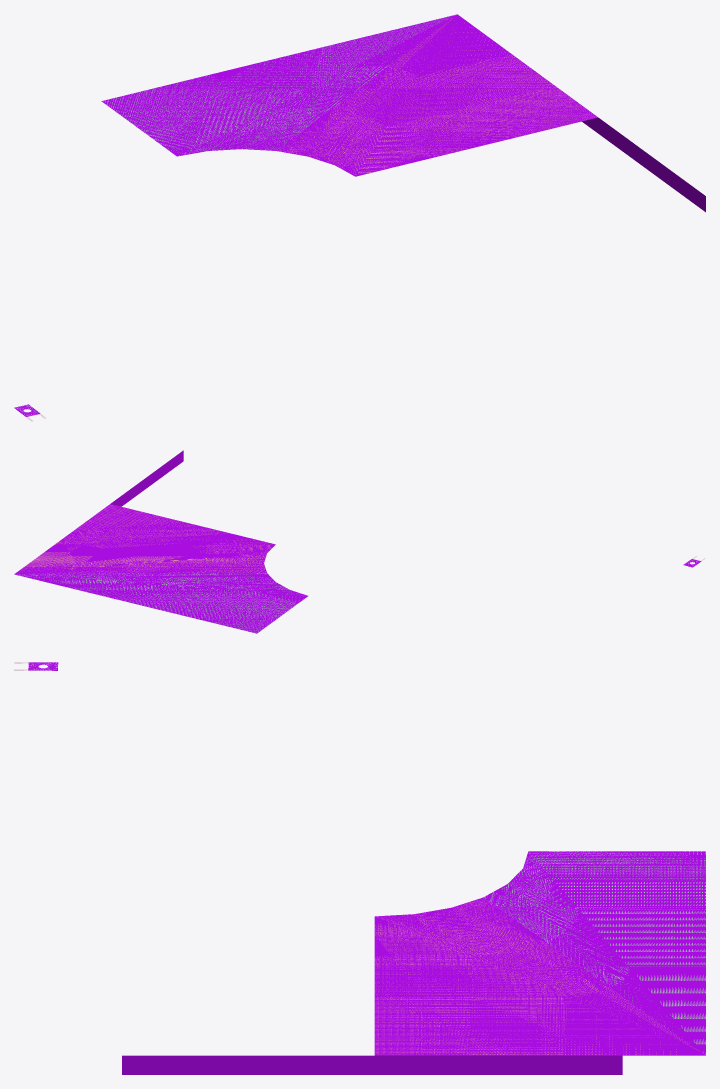
Rendered from kite_7.dae.
3 views of the same model, one above another, from view 1: azimuth 30°, elevation 25°; view 2: azimuth 150°, elevation 25°; view 3: azimuth 270°, elevation 25° (orthographic). The views are drawn at different scales.
Parts seen in each view (by area): view 1: Body, Body.006, Body.007; view 2: Body, Body.006, Body.007; view 3: Body, Body.006, Body.007.
Part boxes in pixels (x1,y1,x2,y2): Body: [276, 14, 597, 176]; Body.006: [101, 14, 456, 156]; Body.007: [582, 117, 705, 212]; Body: [14, 504, 275, 574]; Body.006: [14, 573, 307, 633]; Body.007: [110, 450, 183, 506]; Body: [374, 897, 705, 1055]; Body.006: [483, 851, 705, 1055]; Body.007: [122, 1055, 622, 1074].
Bounding box in the file's own units: 72.62 × 51.46 × 1.57.
